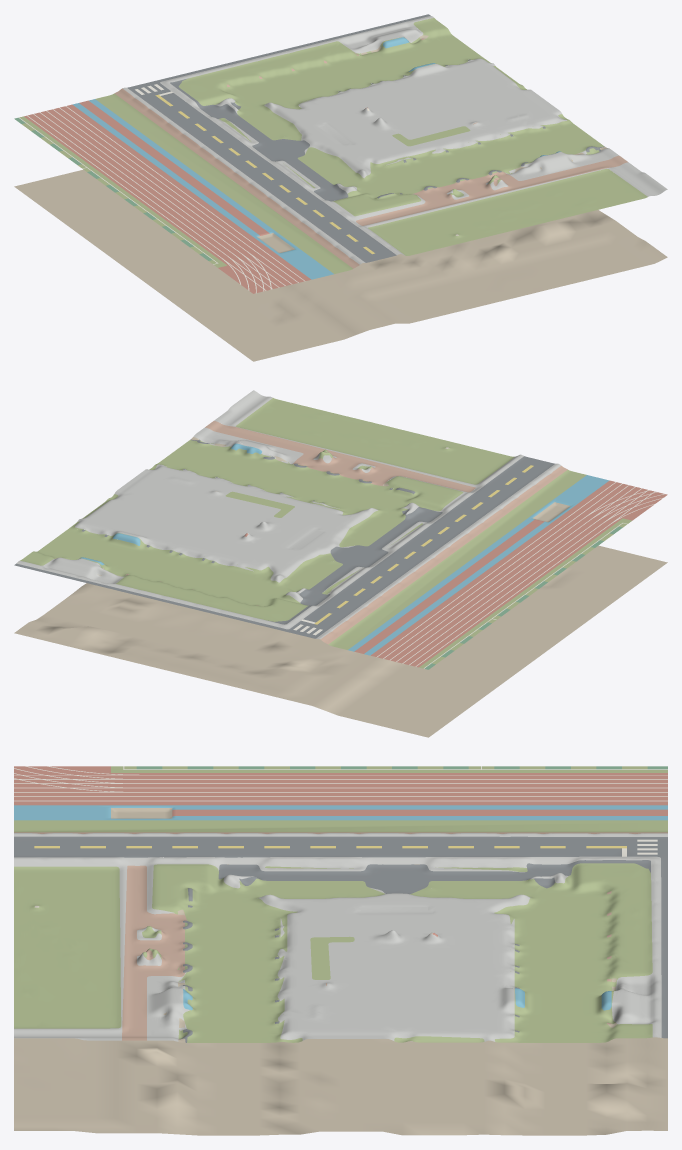
3 renders of one model, top to bottom at view 1: azimuth 30°, elevation 25°; view 2: azimuth 150°, elevation 25°; view 3: azimuth 270°, elevation 25°, orthographic. The views are drawn at different scales.
Parts seen in each view (by area): view 1: s_-7_4__soil, s_-7_4__grass, s_-7_4__stone_paving, s_-7_4__red_court, s_-7_4__asphalt, s_-7_4__brick_paving, s_-7_4__blue_court, s_-7_4__white_marking, s_-7_4__green_court, s_-7_4__yellow_marking; view 2: s_-7_4__soil, s_-7_4__grass, s_-7_4__stone_paving, s_-7_4__red_court, s_-7_4__asphalt, s_-7_4__brick_paving, s_-7_4__blue_court, s_-7_4__white_marking, s_-7_4__green_court, s_-7_4__yellow_marking; view 3: s_-7_4__grass, s_-7_4__soil, s_-7_4__stone_paving, s_-7_4__red_court, s_-7_4__asphalt, s_-7_4__blue_court, s_-7_4__white_marking, s_-7_4__brick_paving, s_-7_4__green_court, s_-7_4__yellow_marking.
Part boxes in pixels (bbox=[...]): s_-7_4__soil: bbox=[14, 35, 667, 361]; s_-7_4__grass: bbox=[19, 18, 647, 273]; s_-7_4__stone_paving: bbox=[122, 16, 667, 264]; s_-7_4__red_court: bbox=[24, 100, 367, 293]; s_-7_4__asphalt: bbox=[127, 14, 604, 262]; s_-7_4__brick_paving: bbox=[114, 38, 627, 268]; s_-7_4__blue_court: bbox=[72, 37, 560, 279]; s_-7_4__white_marking: bbox=[19, 84, 305, 293]; s_-7_4__green_court: bbox=[14, 117, 212, 260]; s_-7_4__yellow_marking: bbox=[155, 94, 374, 254]; s_-7_4__soil: bbox=[14, 437, 667, 737]; s_-7_4__grass: bbox=[20, 398, 631, 668]; s_-7_4__stone_paving: bbox=[16, 390, 560, 639]; s_-7_4__red_court: bbox=[244, 480, 667, 667]; s_-7_4__asphalt: bbox=[14, 439, 554, 638]; s_-7_4__brick_paving: bbox=[126, 421, 567, 644]; s_-7_4__blue_court: bbox=[80, 443, 609, 655]; s_-7_4__white_marking: bbox=[293, 482, 664, 668]; s_-7_4__green_court: bbox=[424, 526, 622, 669]; s_-7_4__yellow_marking: bbox=[314, 465, 533, 624]; s_-7_4__grass: bbox=[14, 766, 667, 1042]; s_-7_4__soil: bbox=[14, 808, 667, 1135]; s_-7_4__stone_paving: bbox=[14, 833, 667, 1041]; s_-7_4__red_court: bbox=[14, 766, 667, 936]; s_-7_4__asphalt: bbox=[14, 836, 667, 1042]; s_-7_4__blue_court: bbox=[14, 805, 667, 1010]; s_-7_4__white_marking: bbox=[14, 766, 667, 856]; s_-7_4__brick_paving: bbox=[14, 832, 667, 1040]; s_-7_4__green_court: bbox=[136, 766, 667, 769]; s_-7_4__yellow_marking: bbox=[34, 846, 626, 848].
Bounding box in the file's own units: 128 × 23.38 × 128.
